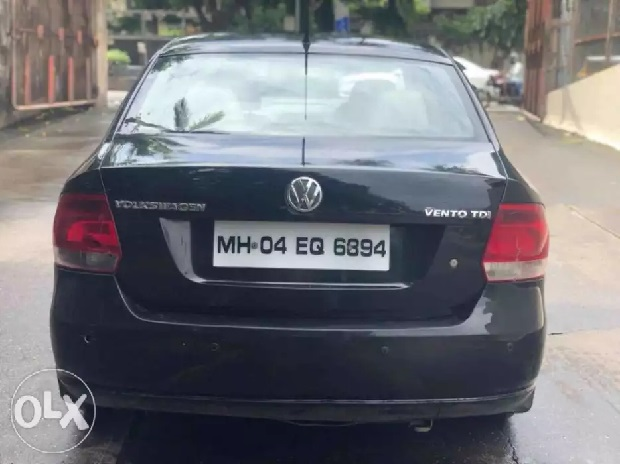licenseplate: (207, 216, 390, 270)
